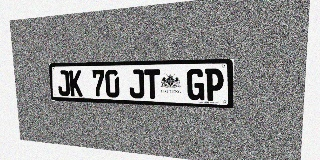0: (105, 70, 120, 98)
7: (91, 70, 106, 97)
G: (187, 69, 204, 100)
J: (129, 69, 144, 99), (57, 70, 70, 96)
K: (69, 70, 83, 97)
P: (205, 68, 224, 101)
T: (144, 69, 160, 99)
